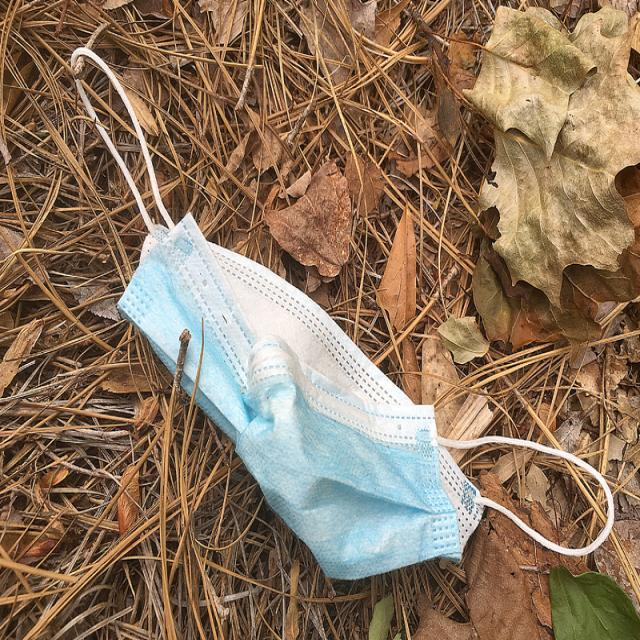face mask: (68, 45, 622, 582)
